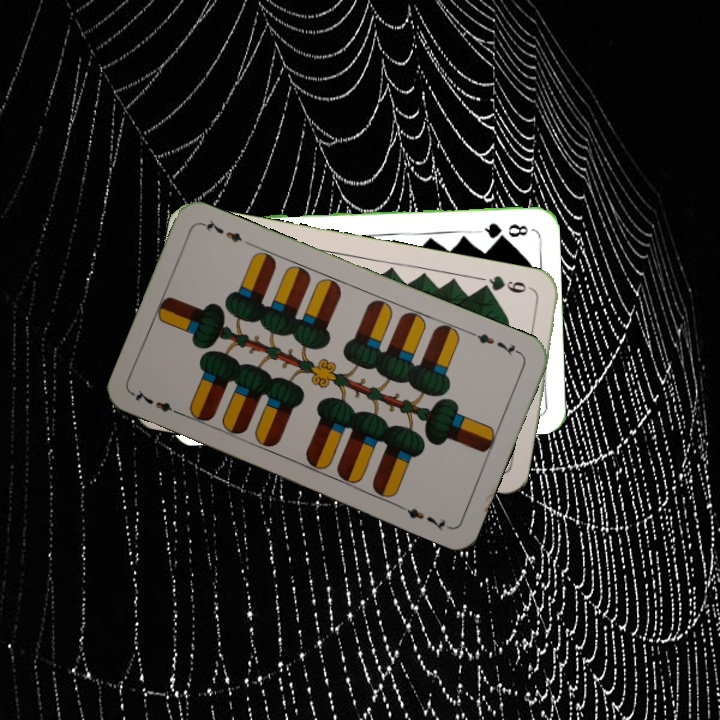E7: (129, 386, 186, 419), (467, 328, 524, 358)
G8: (474, 219, 531, 241)
G9: (476, 271, 536, 296)
